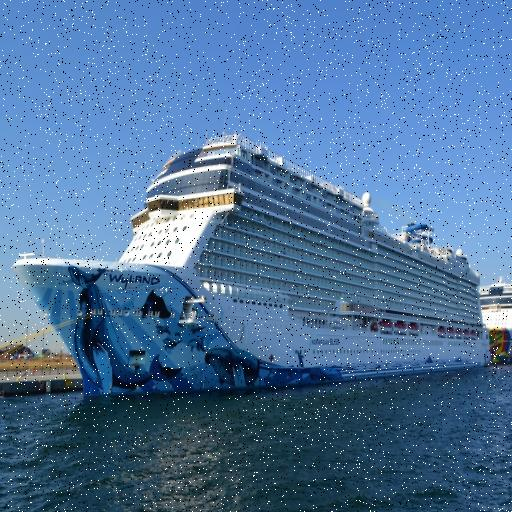cruises: (10, 128, 495, 411)
